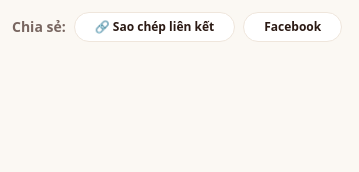
Test case: ShareButtons › copies the page link and confirms
Note: user-event would install its own clipboard stub, so click without it here.
Click the button "🔗 Sao chép liên kết": (154, 27) x1=74 y1=12 x2=235 y2=42
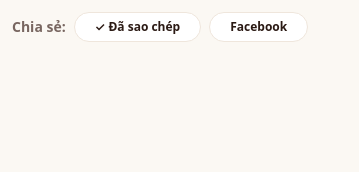
Expected: the button "✓ Đã sao chép" is shown, x1=74 y1=12 x2=201 y2=42
